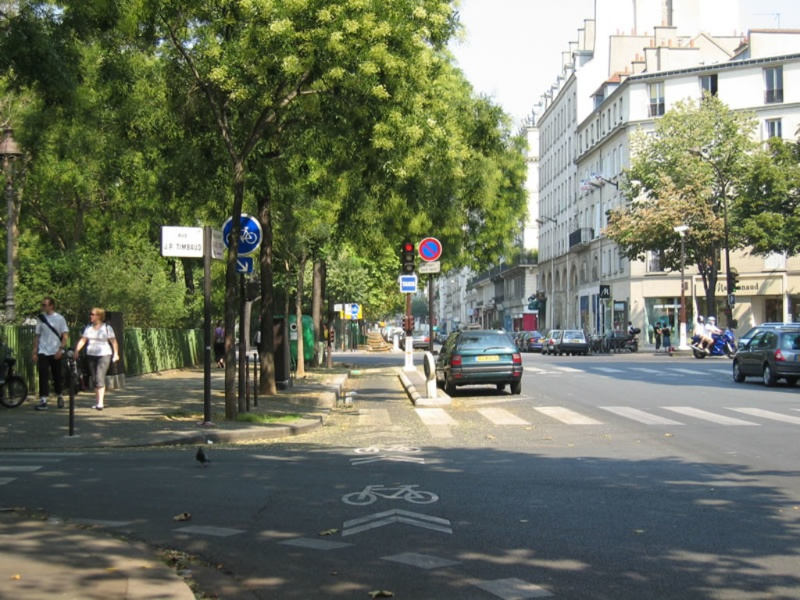no_entry: (417, 233, 448, 266)
